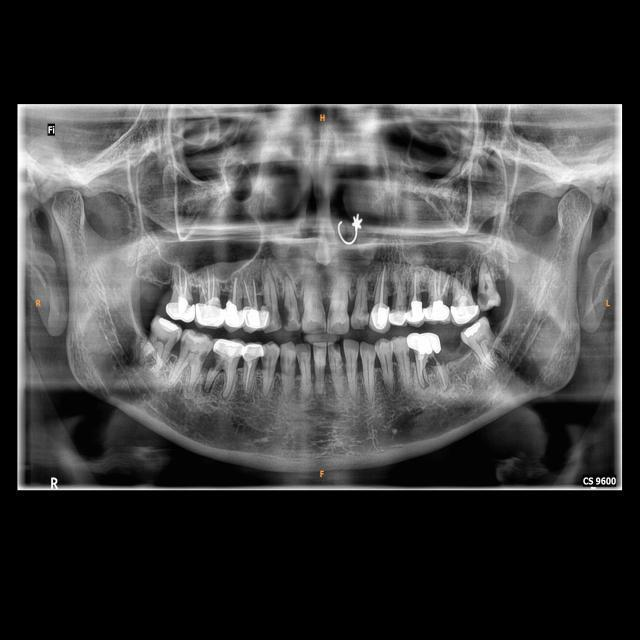dentin-curugu: (280, 300, 295, 326), (476, 290, 492, 308), (208, 350, 220, 370), (200, 348, 208, 364)
dolgu: (154, 309, 182, 340), (461, 321, 487, 341)
kanal-tedavisi: (198, 264, 221, 308), (169, 260, 192, 302), (244, 275, 264, 311), (431, 270, 452, 304), (456, 268, 473, 307), (240, 360, 260, 389), (227, 268, 241, 308), (376, 257, 386, 306), (408, 273, 424, 303)
kaplama: (160, 296, 196, 324), (194, 300, 226, 329), (246, 299, 272, 333), (409, 330, 440, 354), (367, 303, 394, 330), (422, 298, 450, 323), (224, 301, 246, 331), (447, 303, 480, 323), (216, 337, 243, 361), (407, 301, 424, 325), (242, 342, 264, 360), (393, 307, 411, 328)
